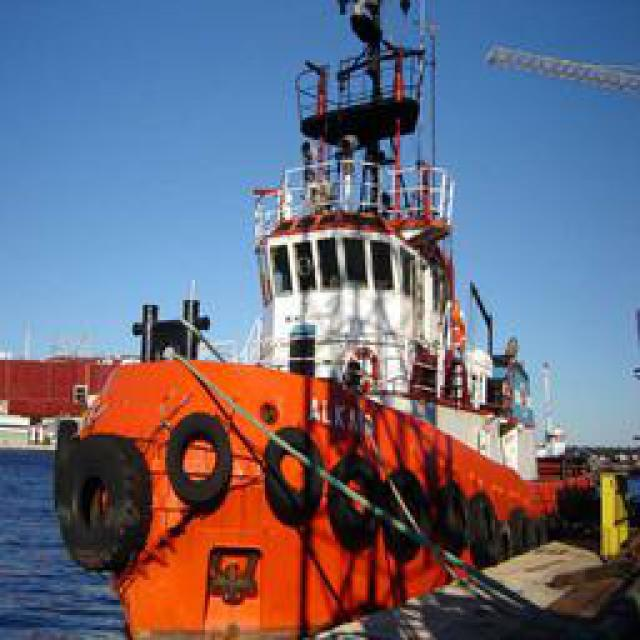Ship: (43, 5, 581, 625)
